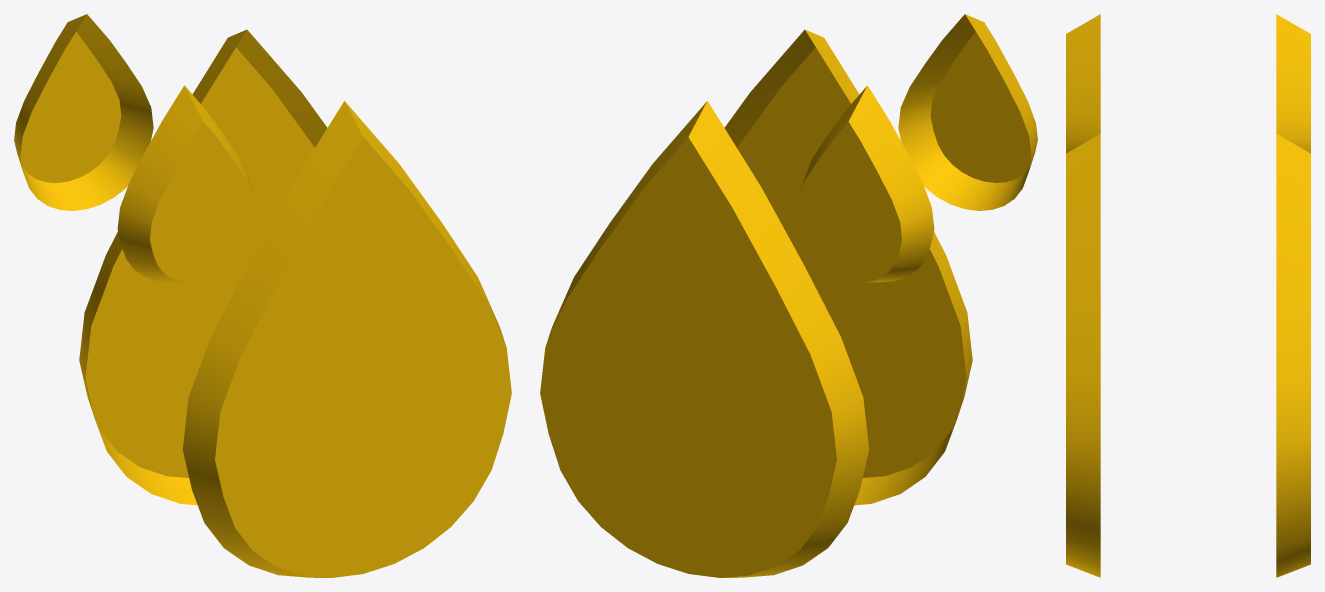
File: Water.fbx
3 views of the same model, side by side, from view 1: azimuth 30°, elevation 25°; view 2: azimuth 150°, elevation 25°; view 3: azimuth 270°, elevation 25° (orthographic). The views are drawn at different scales.
Parts seen in each view (by area): view 1: Water; view 2: Water; view 3: Water.
Boxes of the visible parts, left/top/right/bottom form: Water: left=14, top=14, right=511, bottom=577; Water: left=540, top=14, right=1037, bottom=577; Water: left=1066, top=14, right=1310, bottom=577.
Bounding box in the file's own units: 75.5 × 97.99 × 45.74.
